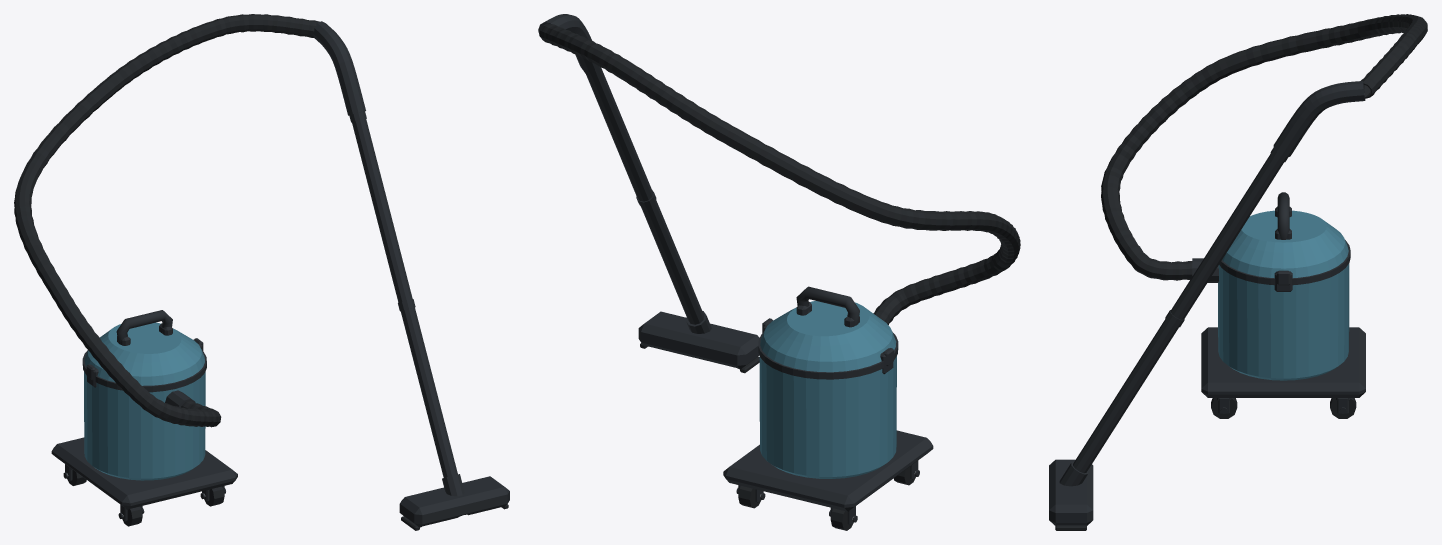
File: A-NEW-20261026-WET-DRY-VACUUM-001_LOD2_R1.fbx
The picture shows the model from 3 angles, left to right: view 1: azimuth 30°, elevation 25°; view 2: azimuth 150°, elevation 25°; view 3: azimuth 270°, elevation 25°; orthographic projection. The views are drawn at different scales.
Visible parts, largest first — view 1: continuous corrugated hollow hose, closed wall drum, sculpted motor cover, wide caster base, wide floor nozzle shell, hollow wand section 2, hollow wand section 1, curved hollow suction handgrip, black lid seam, arched carry handle; view 2: continuous corrugated hollow hose, closed wall drum, sculpted motor cover, wide caster base, wide floor nozzle shell, hollow wand section 2, hollow wand section 1, black lid seam, arched carry handle, curved hollow suction handgrip; view 3: closed wall drum, continuous corrugated hollow hose, sculpted motor cover, wide caster base, hollow wand section 2, hollow wand section 1, wide floor nozzle shell, curved hollow suction handgrip, black lid seam, arched carry handle.
Part boxes in pixels (x1,y1,x2,y2): continuous corrugated hollow hose: (14,14,319,427); closed wall drum: (84,371,205,480); sculpted motor cover: (84,322,204,385); wide caster base: (51,437,237,509); wide floor nozzle shell: (399,476,509,527); hollow wand section 2: (352,118,411,302); hollow wand section 1: (398,295,457,477); curved hollow suction handgrip: (313,21,365,115); black lid seam: (82,350,206,392); arched carry handle: (116,310,172,344); continuous corrugated hollow hose: (540,23,1020,324); closed wall drum: (759,356,896,478); sculpted motor cover: (760,301,896,372); wide caster base: (723,430,933,511); wide floor nozzle shell: (638,311,759,369); hollow wand section 2: (586,68,652,201); hollow wand section 1: (641,190,704,324); black lid seam: (758,331,898,379); arched carry handle: (796,286,859,325); curved hollow suction handgrip: (538,14,598,71); closed wall drum: (1218,263,1349,380); continuous corrugated hollow hose: (1101,14,1427,280); sculpted motor cover: (1222,210,1348,278); wide caster base: (1201,327,1365,397); hollow wand section 2: (1173,154,1283,319); hollow wand section 1: (1073,307,1180,473); wide floor nozzle shell: (1049,459,1093,525); curved hollow suction handgrip: (1273,81,1365,156); black lid seam: (1219,240,1350,285); arched carry handle: (1277,192,1289,239).
Bounding box in the file's own units: 111 × 113 × 89.14.
